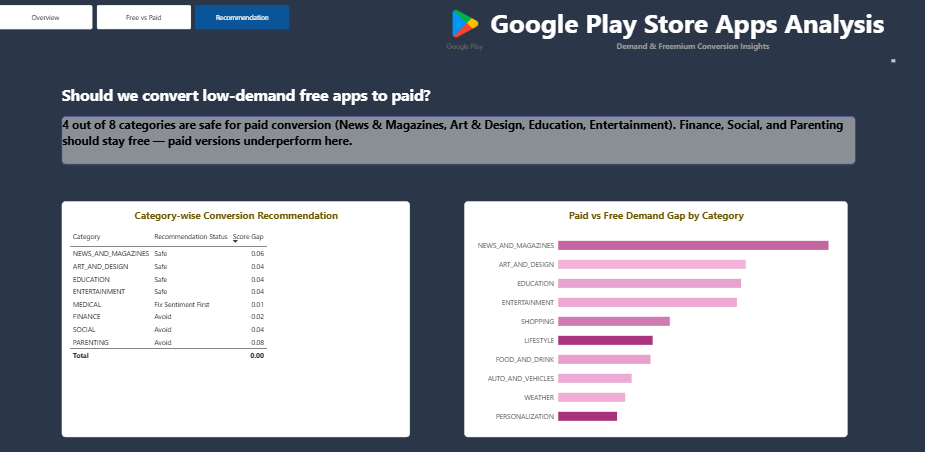

Layout of this report page (visuals, bound fields, positions):
{"tool":"powerbi","page":{"name":"Recommendation","canvas":[1920,1080],"ordinal":2},"visuals":[{"type":"textbox","title":"Google Play Store Apps Analysis","box":[1009.5,9.5,830,118],"z":0},{"type":"image","box":[892.9,11.9,130,98],"z":1000},{"type":"pageNavigator","box":[0,10,600,50],"z":2000},{"type":"textbox","box":[131.7,172.9,781,66.7],"z":2001},{"type":"tableEx","title":"Category-wise Conversion Recommendation","fields":{"Values":["apps_with_demand_score.Category","apps_with_demand_score.Recommendation Status","apps_with_demand_score.Score Gap"]},"box":[131.7,411.7,714.2,483.7],"z":2002},{"type":"clusteredBarChart","title":"Paid vs Free Demand Gap by Category","fields":{"Category":["apps_with_demand_score.Category"],"Y":["apps_with_demand_score.Score Gap"]},"box":[957.1,411.7,786.3,483.7],"z":2003},{"type":"textbox","box":[131.7,238.8,1628.1,98.8],"z":2004}]}

Visuals, with their boxes on the page's 1920x1080 design canvas (x1, y1, x2, y2). These are canvas units, not pixel positions in the 925x452 screenshot, which may show the page scaled, cropped or inside an application window:
"Google Play Store Apps Analysis" textbox: bbox=(1010, 10, 1840, 128)
image: bbox=(893, 12, 1023, 110)
pageNavigator: bbox=(0, 10, 600, 60)
textbox: bbox=(132, 173, 913, 240)
"Category-wise Conversion Recommendation" tableEx: bbox=(132, 412, 846, 895)
"Paid vs Free Demand Gap by Category" clusteredBarChart: bbox=(957, 412, 1743, 895)
textbox: bbox=(132, 239, 1760, 338)
